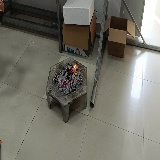fire: (73, 64, 78, 74), (54, 74, 56, 79)
